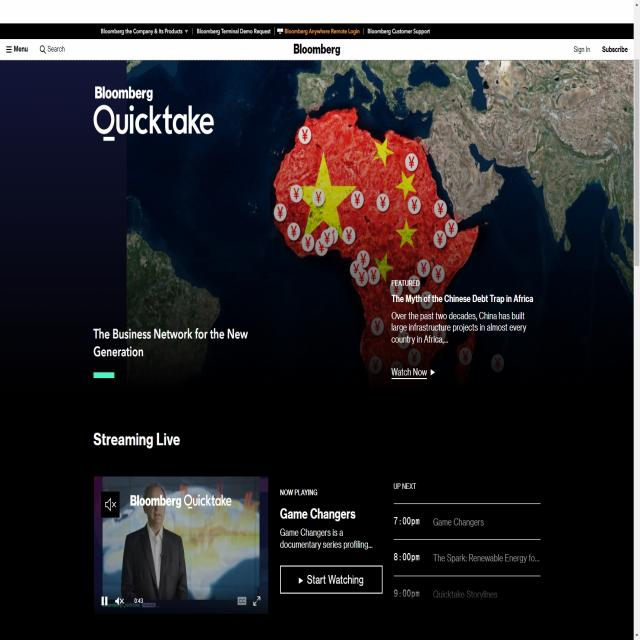menu-bar: (1, 39, 70, 58), (569, 39, 632, 58)
